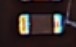COMP: (14, 11, 67, 38)
STAN: (61, 1, 76, 25), (65, 1, 70, 29), (63, 17, 76, 26)
